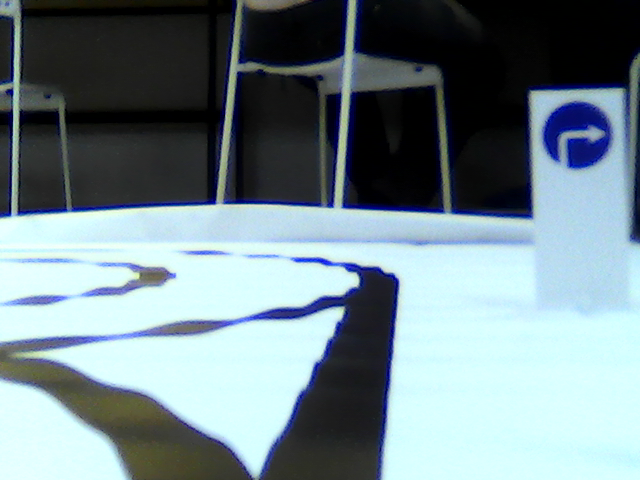Right: (542, 101, 614, 169)
